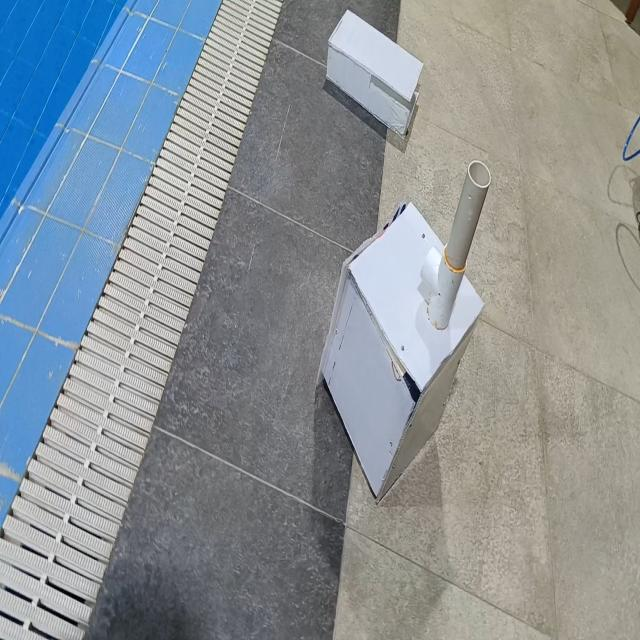Cube: (317, 196, 486, 504)
Cuboid: (325, 8, 424, 138)
